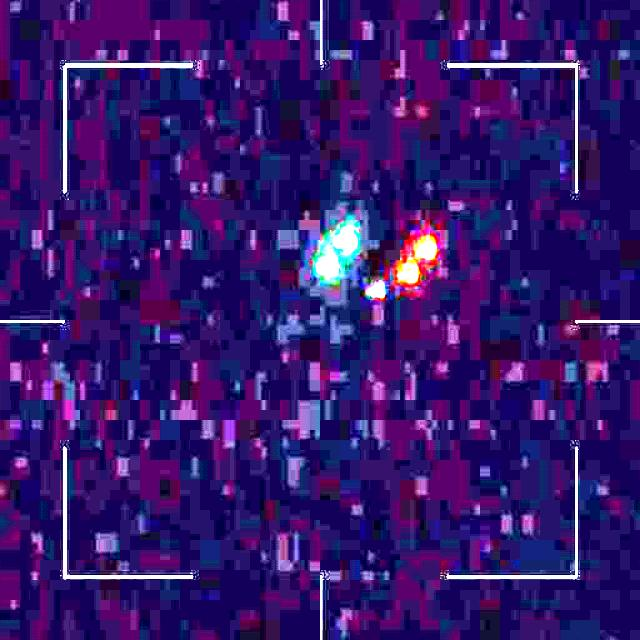bird: (316, 226, 440, 301)
